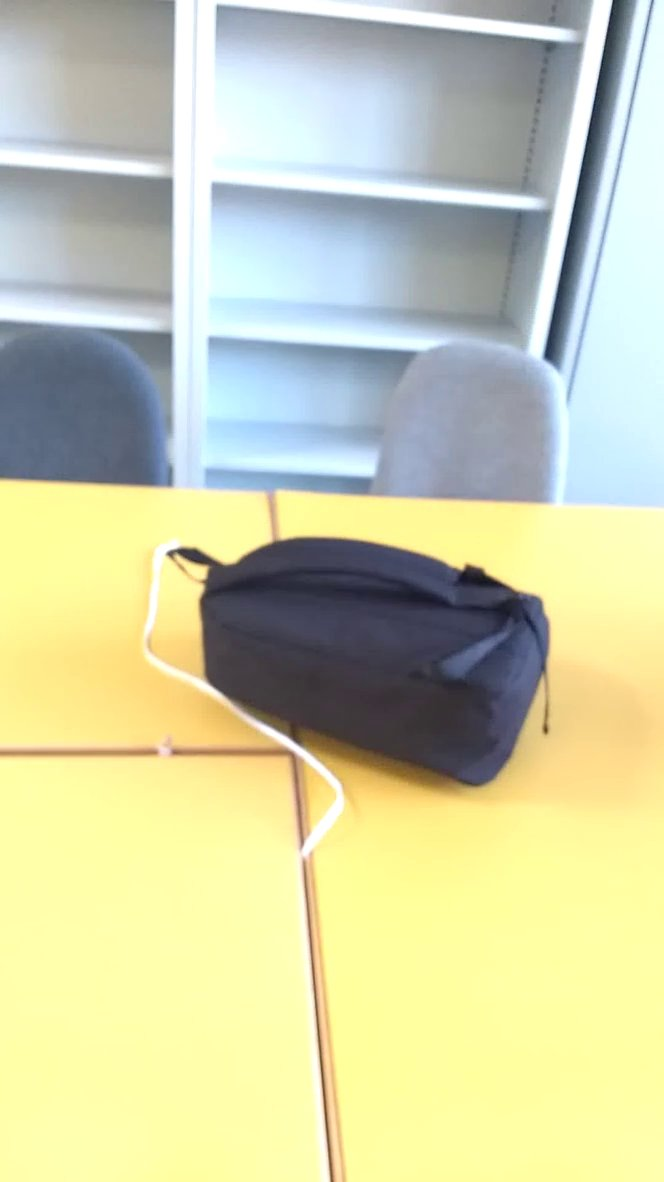bag: (150, 522, 566, 798)
chair: (360, 330, 585, 531), (1, 312, 174, 500)
